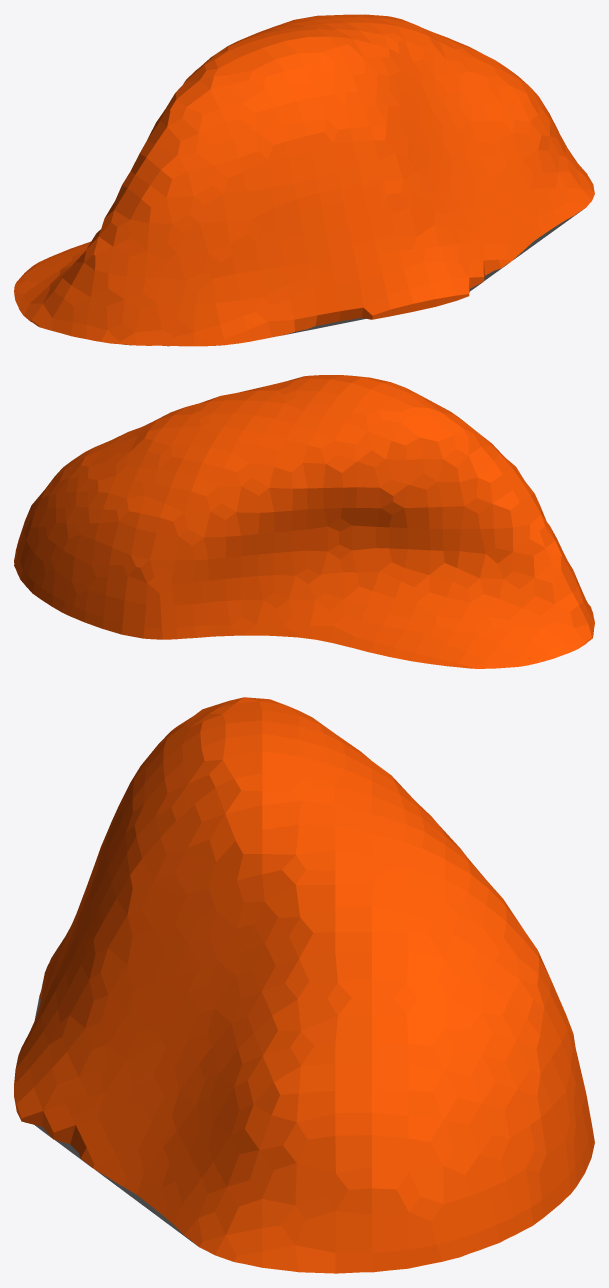
3 views of the same model, one above another, from view 1: azimuth 30°, elevation 25°; view 2: azimuth 150°, elevation 25°; view 3: azimuth 270°, elevation 25° (orthographic). The views are drawn at different scales.
Parts seen in each view (by area): view 1: 19.004; view 2: 19.004; view 3: 19.004.
Part boxes in pixels (x1,y1,x2,y2): 19.004: (14,14,594,346); 19.004: (14,375,594,668); 19.004: (14,697,594,1273).
Size of the model in its own units: 10.42 by 3.82 by 6.36.
